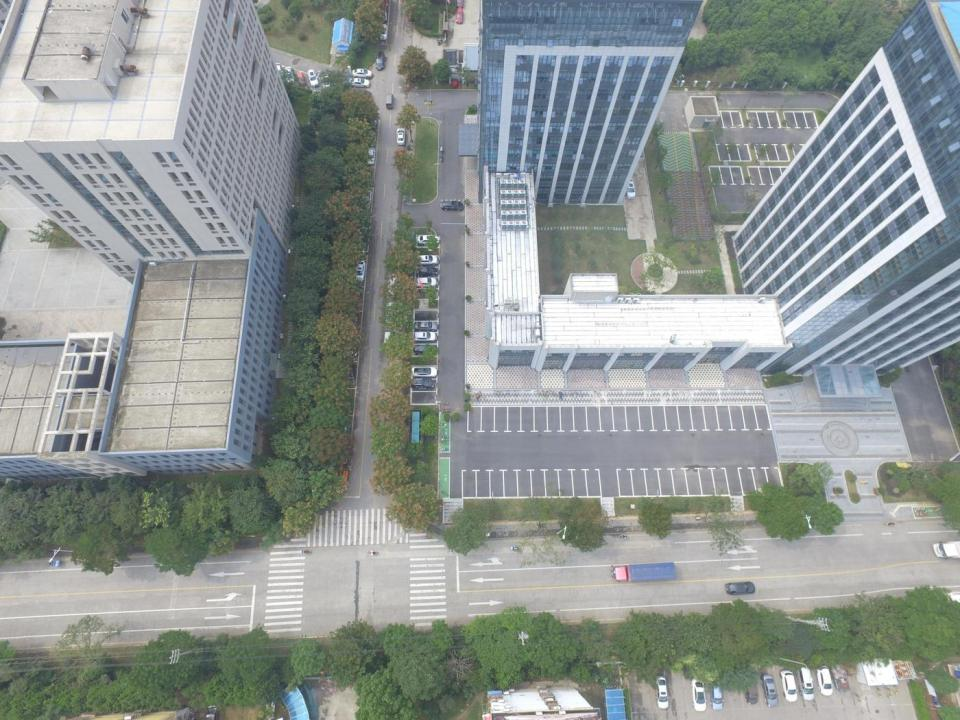car: (795, 666, 814, 701), (760, 674, 778, 708), (780, 669, 798, 702), (830, 662, 849, 692), (691, 677, 707, 712), (815, 665, 833, 695), (654, 675, 669, 709), (744, 675, 758, 704), (334, 418, 349, 445), (725, 581, 755, 594), (710, 682, 723, 710), (341, 362, 355, 384), (354, 260, 366, 282), (414, 320, 438, 331), (410, 378, 434, 389), (345, 337, 358, 357), (411, 367, 437, 377), (347, 311, 359, 332), (417, 235, 439, 246), (416, 255, 438, 266), (414, 331, 436, 342), (440, 201, 463, 211), (350, 289, 362, 308), (354, 236, 366, 255), (387, 273, 397, 295), (348, 78, 370, 88), (416, 267, 438, 277), (415, 277, 437, 287), (413, 345, 437, 354), (307, 69, 319, 87), (360, 190, 371, 209), (366, 124, 377, 143), (386, 302, 396, 322), (284, 66, 295, 84), (361, 170, 373, 186), (375, 51, 385, 70), (405, 4, 416, 21), (206, 705, 218, 720), (352, 69, 372, 78), (273, 62, 284, 78), (396, 127, 405, 146), (376, 7, 388, 21), (378, 24, 388, 40), (321, 74, 331, 90), (295, 72, 306, 86), (366, 148, 375, 165), (395, 148, 404, 165), (456, 8, 464, 24), (456, 0, 464, 8)
truck: (610, 562, 677, 582), (326, 448, 352, 490), (932, 540, 960, 559)
van: (384, 329, 394, 349), (386, 93, 393, 109)
